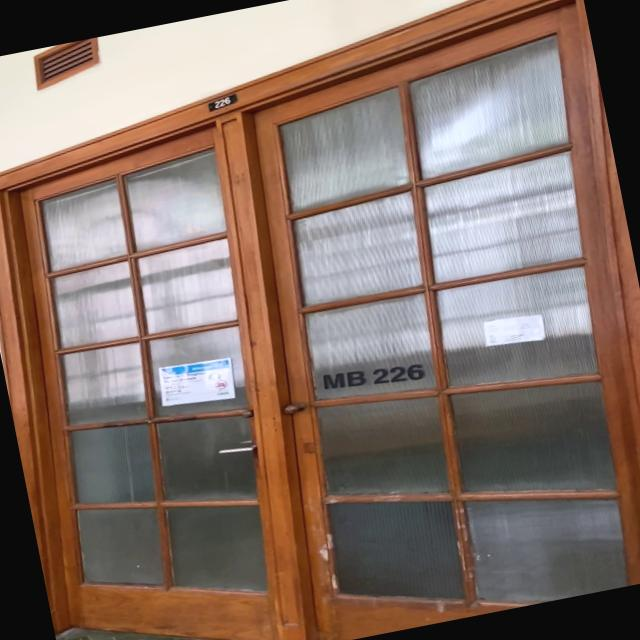room226: (204, 90, 243, 112)
room226Window: (316, 351, 429, 402)
